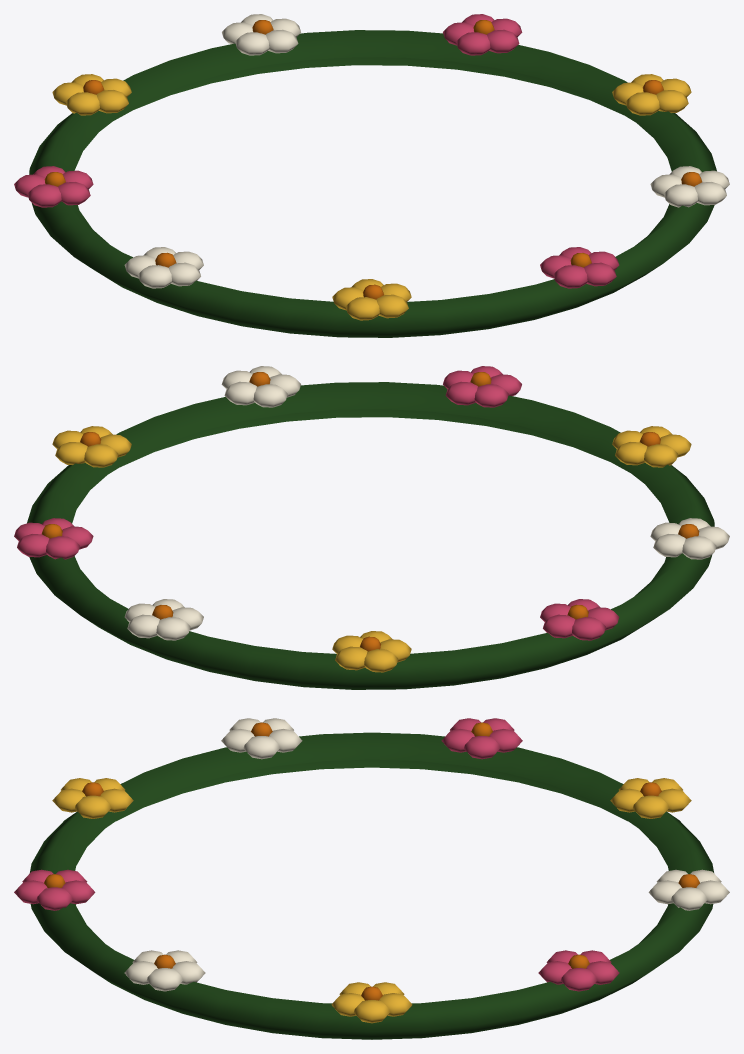
File: mahkota_bunga.obj
3 views of the same model, one above another, from view 1: azimuth 30°, elevation 25°; view 2: azimuth 150°, elevation 25°; view 3: azimuth 270°, elevation 25° (orthographic).
Parts seen in each view (by area): view 1: rangkai, kelopak.003, kelopak.023, kelopak.038, kelopak.008, kelopak.013, kelopak.033, kelopak.028, kelopak.018, kelopak.043, kelopak.019, kelopak.034 (+7 smaller); view 2: rangkai, kelopak.002, kelopak.027, kelopak.012, kelopak.042, kelopak.037, kelopak.017, kelopak.022, kelopak.032, kelopak.007, kelopak.031, kelopak.016 (+7 smaller); view 3: rangkai, kelopak.015, kelopak.030, kelopak.020, kelopak.025, kelopak.010, kelopak.035, kelopak.005, kelopak.040, kelopak, kelopak.011, kelopak.039 (+14 smaller).
Part boxes in pixels (x1,y1,x2,y2): rangkai: (29, 30, 716, 337); kelopak.003: (625, 92, 659, 115); kelopak.023: (27, 184, 61, 207); kelopak.038: (553, 265, 587, 288); kelopak.008: (456, 32, 490, 55); kelopak.013: (235, 32, 269, 55); kelopak.033: (345, 297, 379, 320); kelopak.028: (138, 265, 171, 288); kelopak.018: (66, 92, 99, 115); kelopak.043: (664, 184, 697, 207); kelopak.019: (96, 90, 128, 113); kelopak.034: (376, 294, 408, 318); rangkai: (27, 382, 714, 689); kelopak.002: (84, 444, 118, 467); kelopak.027: (682, 536, 716, 559); kelopak.012: (156, 617, 190, 640); kelopak.042: (253, 384, 287, 407); kelopak.037: (474, 384, 508, 407); kelopak.017: (364, 649, 398, 672); kelopak.022: (572, 617, 605, 640); kelopak.032: (644, 444, 677, 467); kelopak.007: (46, 536, 79, 559); kelopak.031: (615, 442, 647, 465); kelopak.016: (335, 646, 367, 670); rangkai: (30, 732, 713, 1039); kelopak.015: (633, 795, 668, 818); kelopak.030: (75, 795, 110, 818); kelopak.020: (464, 736, 500, 759); kelopak.025: (243, 736, 279, 759); kelopak.010: (671, 887, 707, 910); kelopak.035: (36, 887, 72, 910); kelopak.005: (561, 968, 597, 991); kelopak.040: (146, 968, 182, 991); kelopak: (353, 1000, 390, 1023); kelopak.011: (696, 880, 729, 904); kelopak.039: (14, 880, 47, 904).
Bounding box in the file's own units: 2.2 × 0.18 × 2.22.
